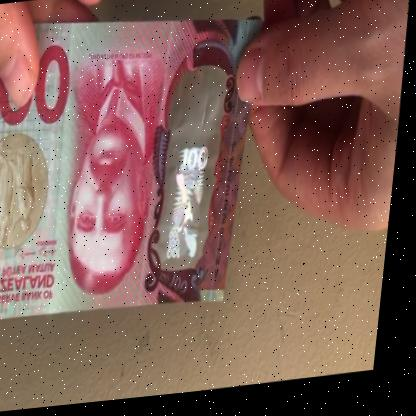100F: (164, 92, 226, 270)
